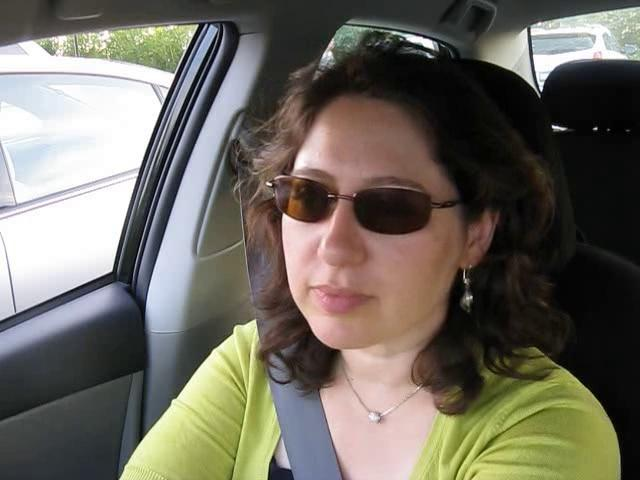no_yawn: (296, 275, 384, 320)
